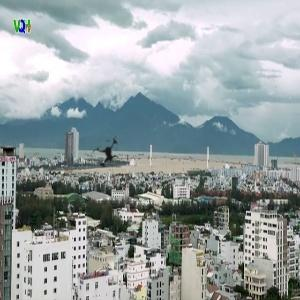drone: (78, 123, 139, 184)
